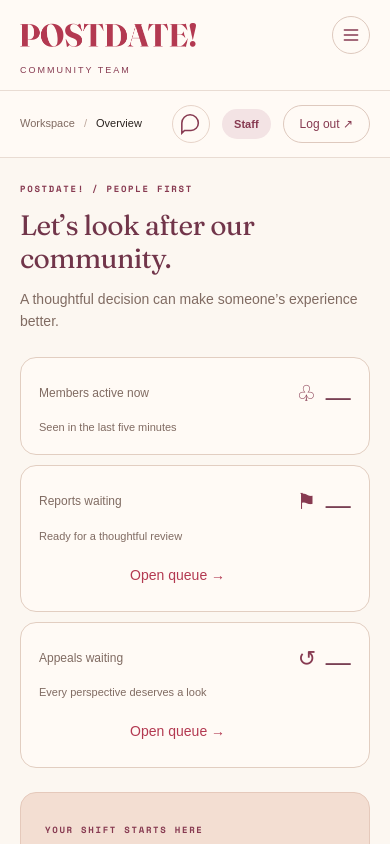
Test case: moderator compact menu closes after selecting a workspace section
Click the button named "Open workspace menu" at (351, 35), box [332,16,370,54]
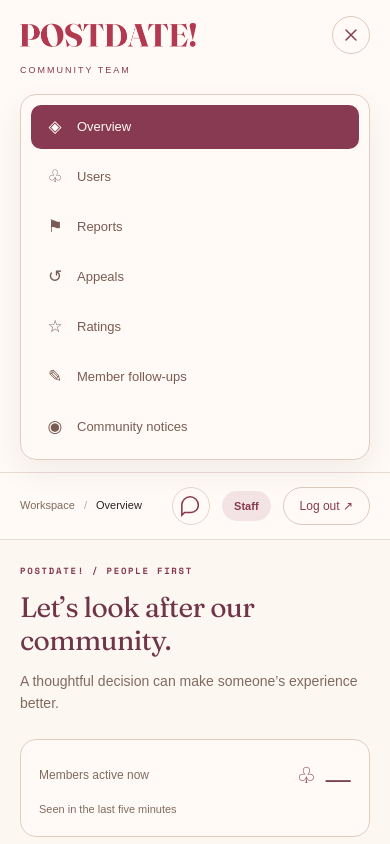
Check: the button named "Close workspace menu" is expanded, box [332,16,370,54]
Click the button "⚑ Reports" at (100, 226), box [31,204,359,248]
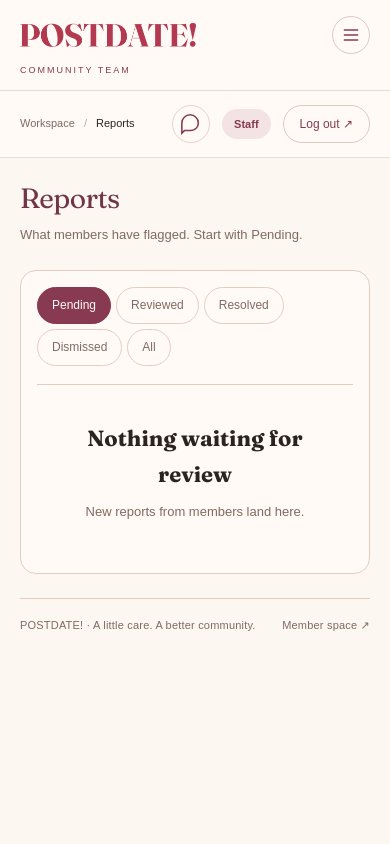
Check: the heading "Reports" is shown, box [20,181,120,215]
Check: the button named "Open workspace menu" is collapsed, box [332,16,370,54]
